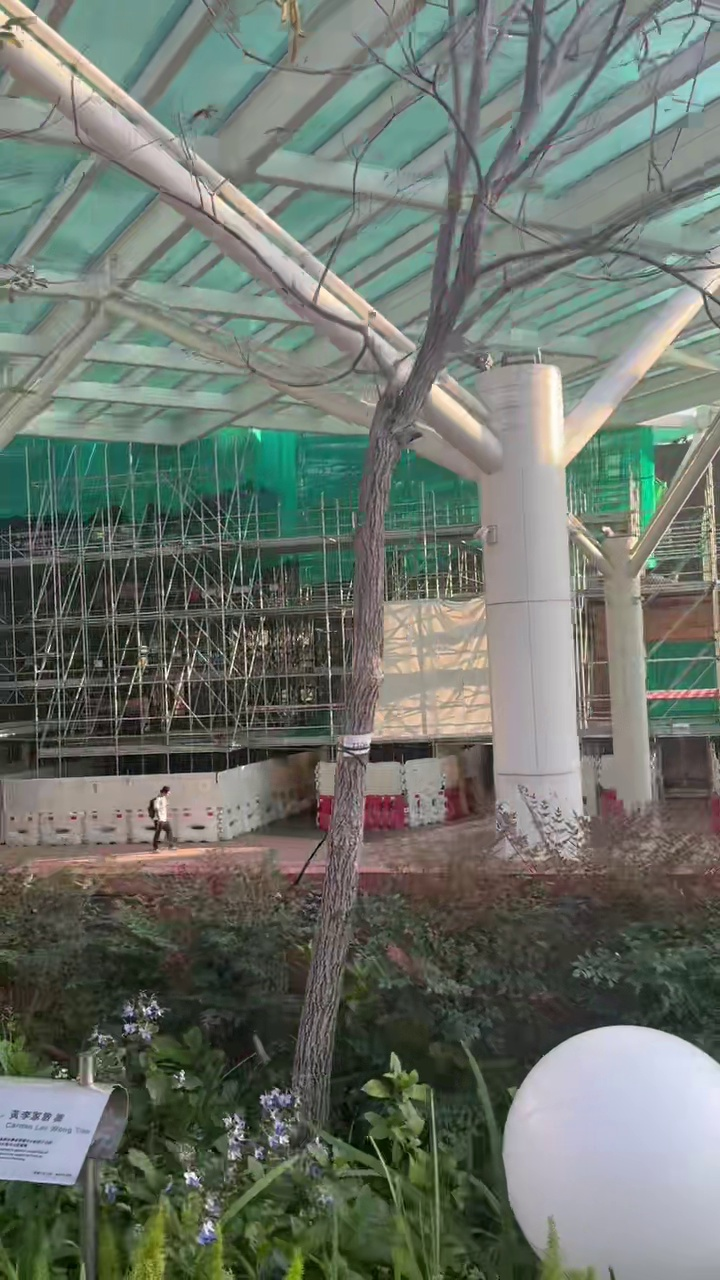Tabebuia chrysantha: (292, 0, 596, 1129)
